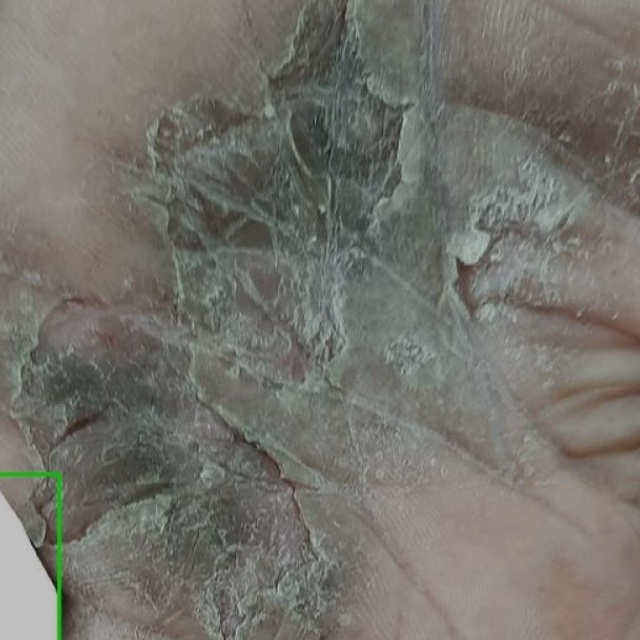Contact Dermatitis: (0, 475, 59, 639)
